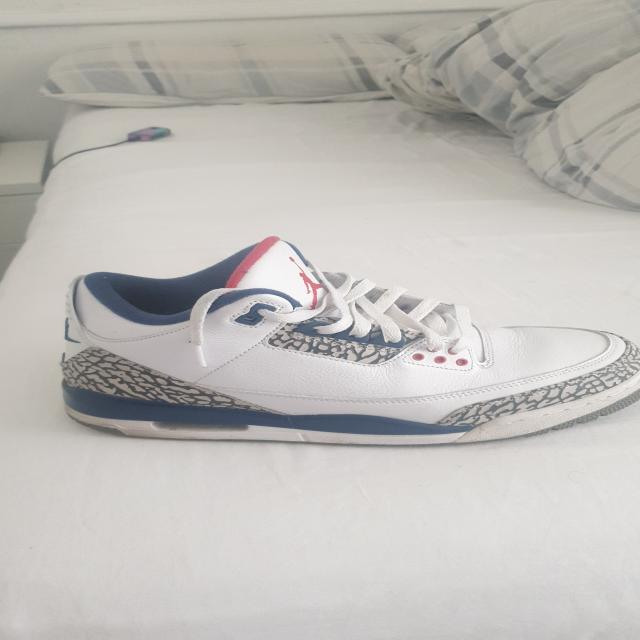shoes: (59, 235, 639, 446)
